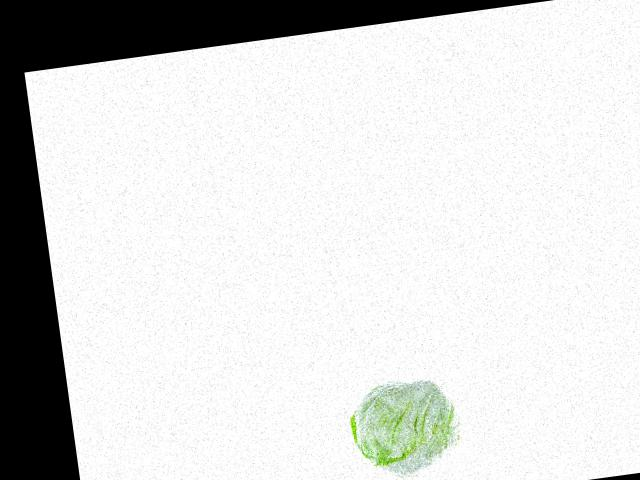lettuce: (348, 378, 464, 480)
